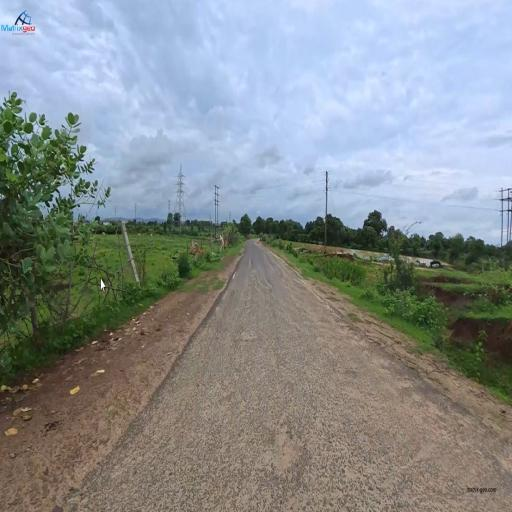ravelling: (261, 405, 321, 493)
